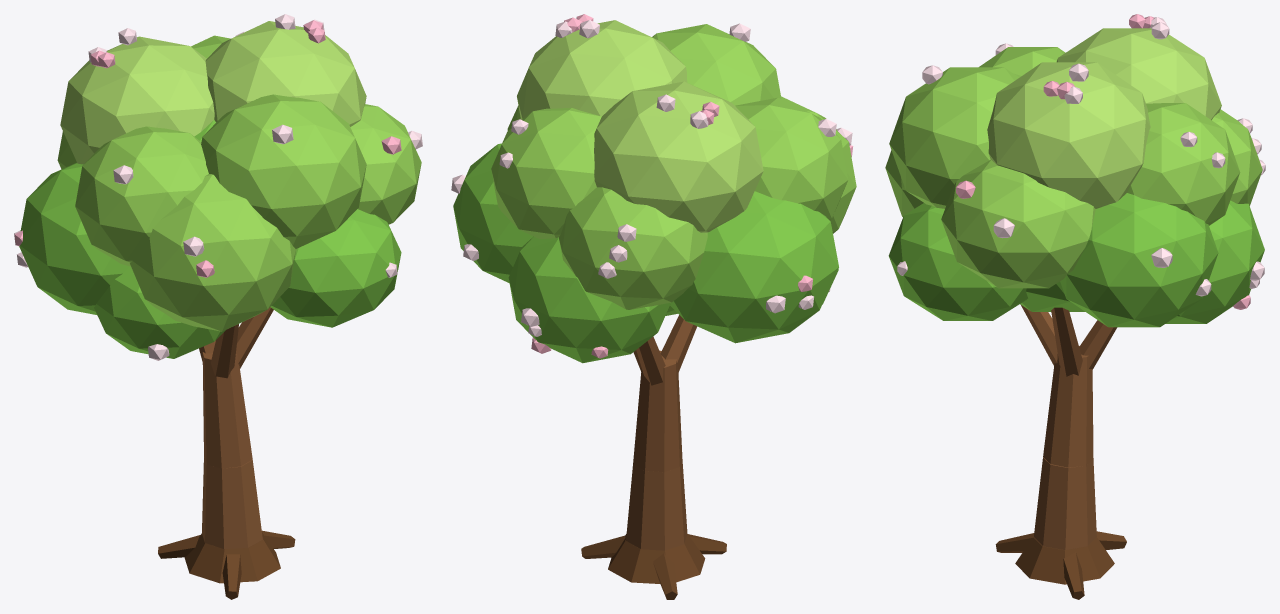
Rendered from tree-spring.glb.
3 views of the same model, side by side, from view 1: azimuth 30°, elevation 25°; view 2: azimuth 150°, elevation 25°; view 3: azimuth 270°, elevation 25° (orthographic).
Visible parts, largest first — view 1: Spring_Crown, Spring_Trunk; view 2: Spring_Crown, Spring_Trunk; view 3: Spring_Crown, Spring_Trunk.
Boxes of the visible parts, bbox=[...] form: Spring_Crown: bbox=[14, 14, 422, 360]; Spring_Trunk: bbox=[158, 307, 295, 599]; Spring_Crown: bbox=[451, 14, 856, 363]; Spring_Trunk: bbox=[581, 315, 726, 599]; Spring_Crown: bbox=[885, 14, 1265, 327]; Spring_Trunk: bbox=[995, 304, 1126, 599].
Size of the model in its own units: 2.16 by 3.21 by 2.07.
